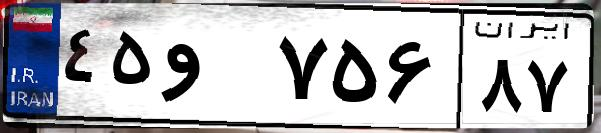4: (57, 26, 110, 100)
5: (330, 28, 385, 110), (110, 28, 158, 98)
6: (385, 28, 445, 110)
7: (270, 28, 330, 110), (525, 38, 570, 115)
8: (475, 38, 525, 113)
و: (158, 20, 270, 120)
